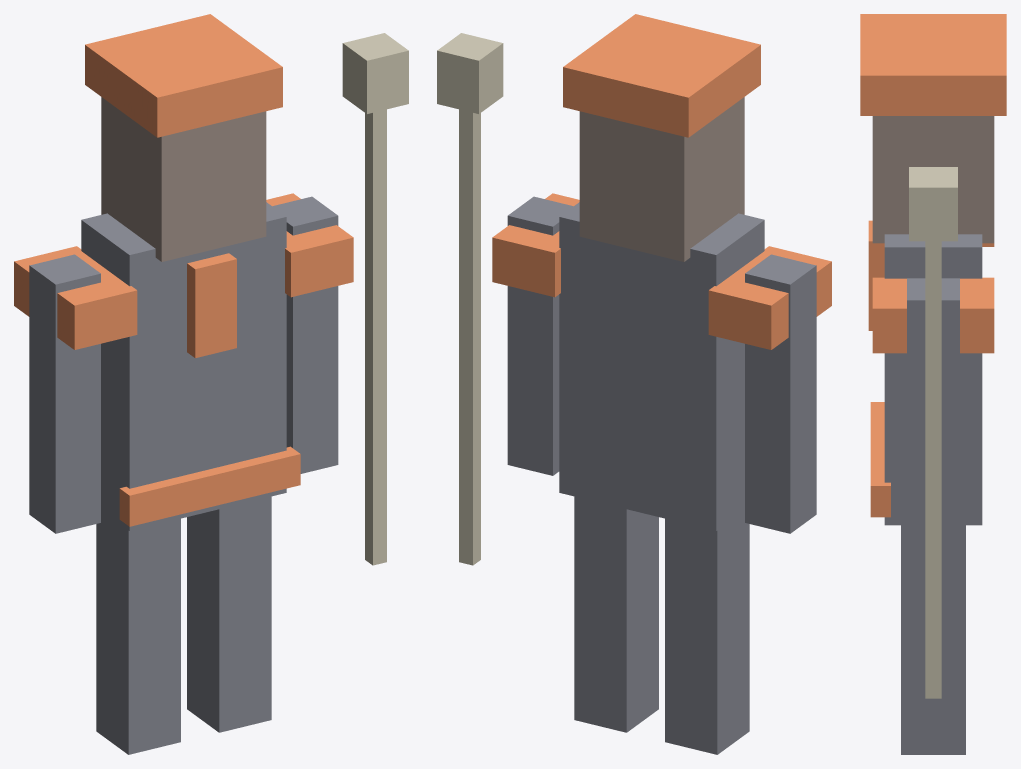
The model's file is 06_keir_voxmere_cartographer_of_missile.glb.
The picture shows the model from 3 angles, left to right: view 1: azimuth 30°, elevation 25°; view 2: azimuth 150°, elevation 25°; view 3: azimuth 270°, elevation 25°; orthographic projection.
Visible parts, largest first — view 1: Keir Voxmere, Cartographer of Missile; view 2: Keir Voxmere, Cartographer of Missile; view 3: Keir Voxmere, Cartographer of Missile.
Boxes of the visible parts, x1,y1,x2,y2 form: Keir Voxmere, Cartographer of Missile: [14, 14, 408, 754]; Keir Voxmere, Cartographer of Missile: [437, 14, 831, 754]; Keir Voxmere, Cartographer of Missile: [860, 14, 1006, 754].
Size of the model in its own units: 0.9376 by 1.69 by 0.3326.
